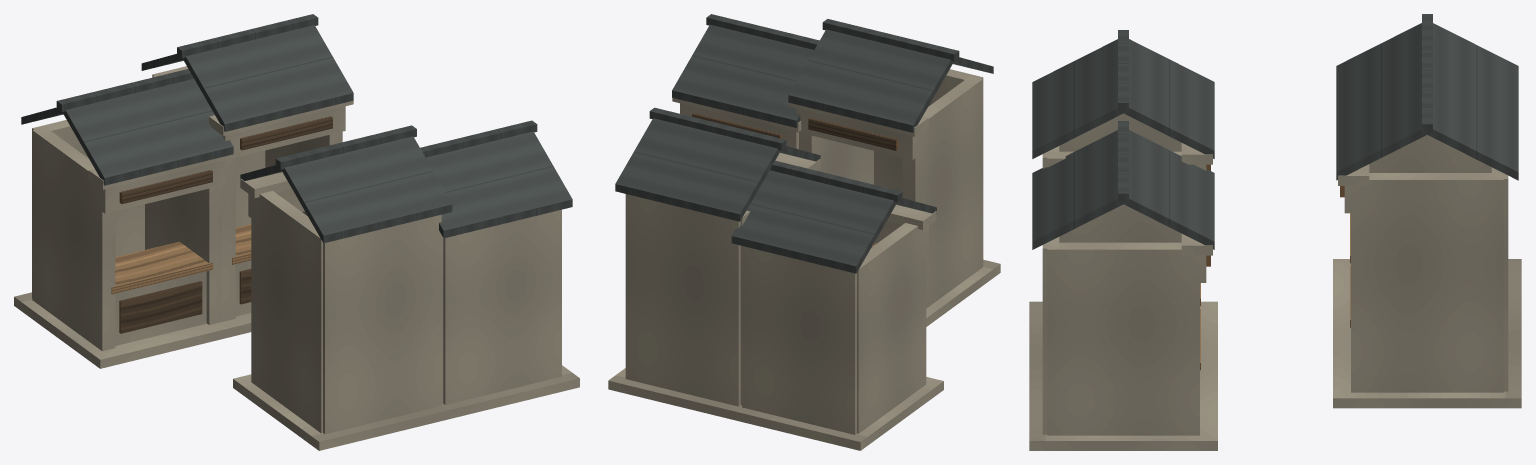
Rendered from belize-city.glb.
The picture shows the model from 3 angles, left to right: view 1: azimuth 30°, elevation 25°; view 2: azimuth 150°, elevation 25°; view 3: azimuth 270°, elevation 25°; orthographic projection. The views are drawn at different scales.
Parts seen in each view (by area): view 1: belize-city; view 2: belize-city; view 3: belize-city.
Boxes of the visible parts, box(x1,y1,x2,y2) form: belize-city: box(14, 14, 579, 450); belize-city: box(608, 14, 1000, 450); belize-city: box(1029, 14, 1521, 450).
Size of the model in its own units: 3.45 by 2.5 by 3.95.
1 material, 1 textured.
